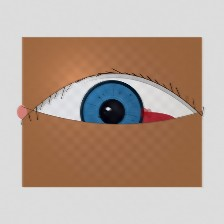hemorrhage_spot: (90, 80, 189, 159)
